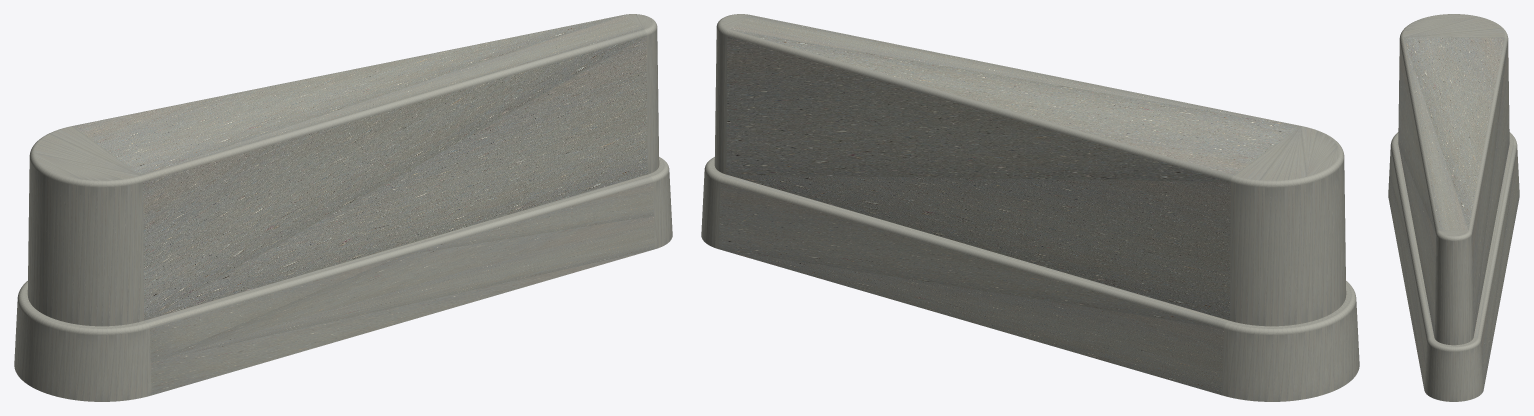
File: Paddle.obj
The picture shows the model from 3 angles, left to right: view 1: azimuth 30°, elevation 25°; view 2: azimuth 150°, elevation 25°; view 3: azimuth 270°, elevation 25°; orthographic projection. The views are drawn at different scales.
Parts seen in each view (by area): view 1: DMD_Flipper_Bat_Mould; view 2: DMD_Flipper_Bat_Mould; view 3: DMD_Flipper_Bat_Mould.
Boxes of the visible parts, left/top/right/bottom form: DMD_Flipper_Bat_Mould: left=14, top=14, right=672, bottom=401; DMD_Flipper_Bat_Mould: left=701, top=14, right=1359, bottom=401; DMD_Flipper_Bat_Mould: left=1388, top=14, right=1519, bottom=401.
Bounding box in the file's own units: 4.22 × 1.34 × 1.
